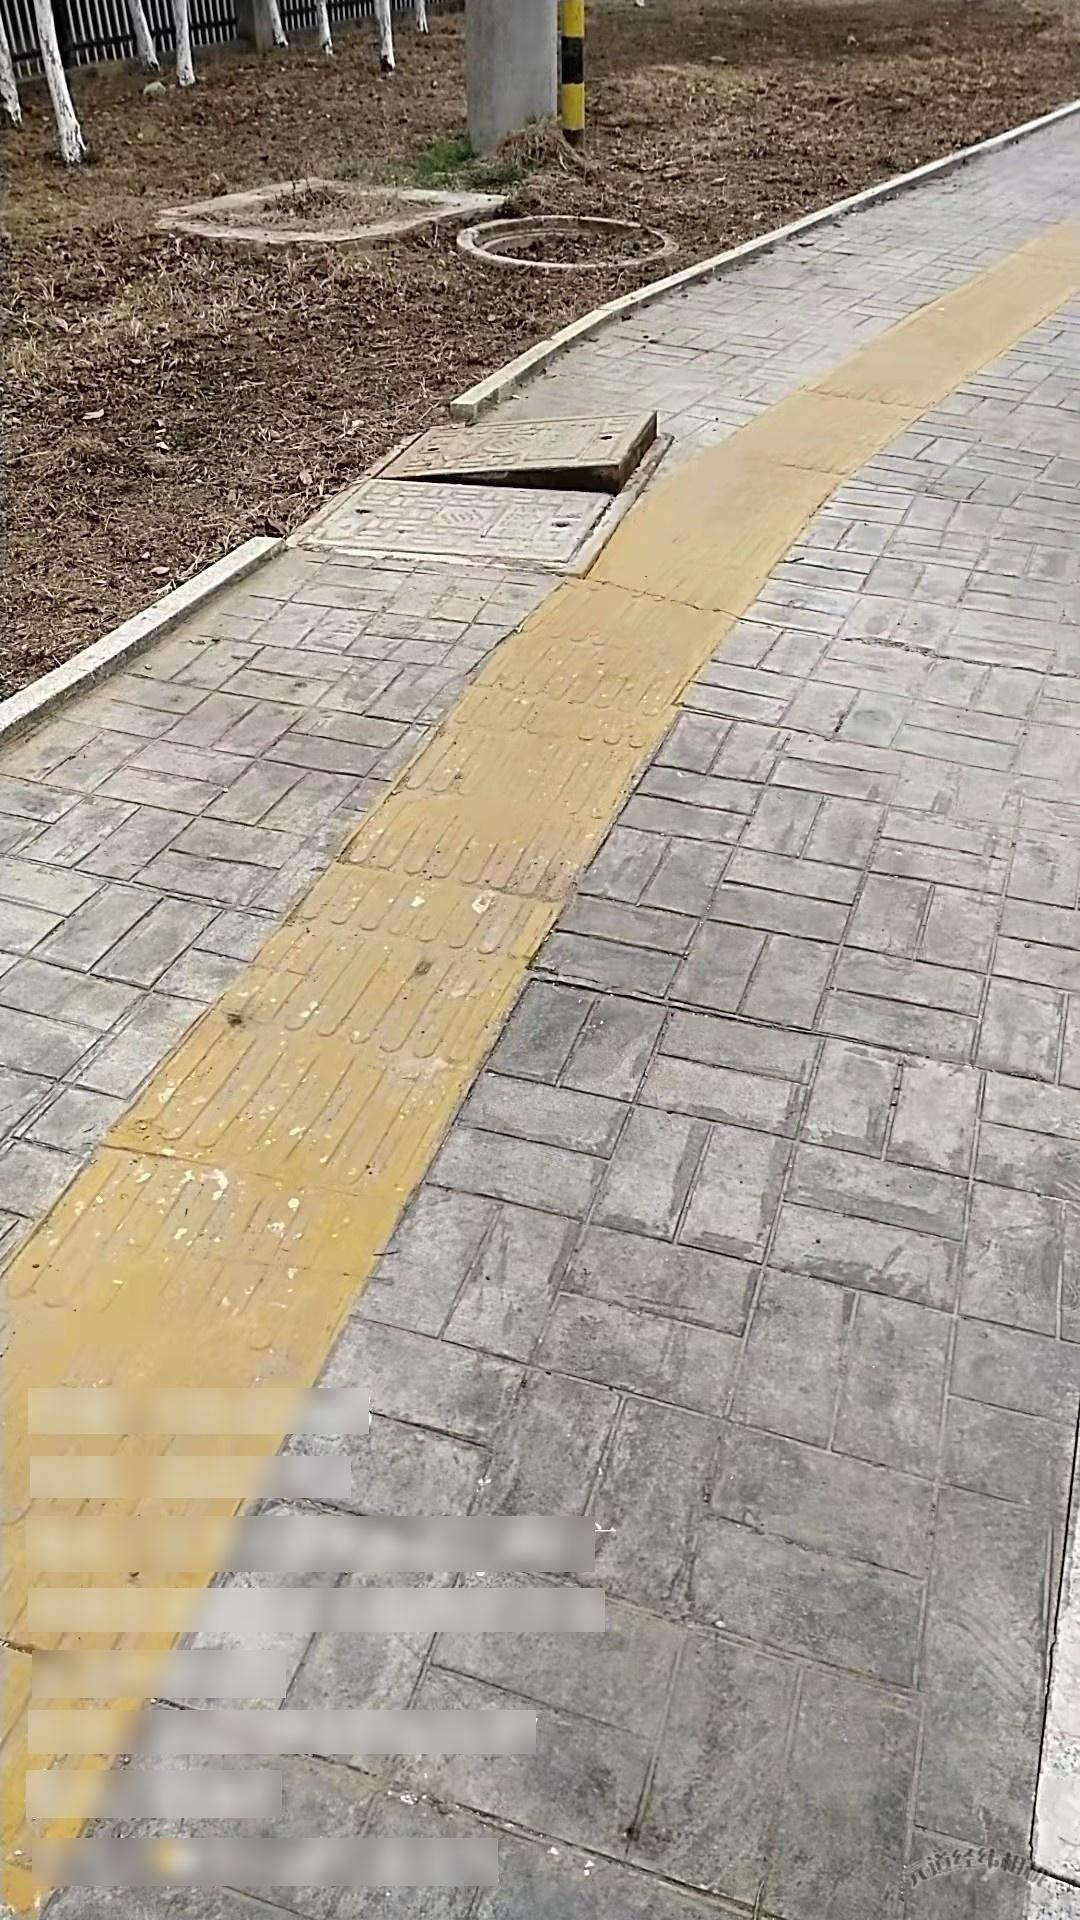wellcover: (287, 392, 671, 616), (145, 148, 513, 262), (451, 198, 682, 289)
